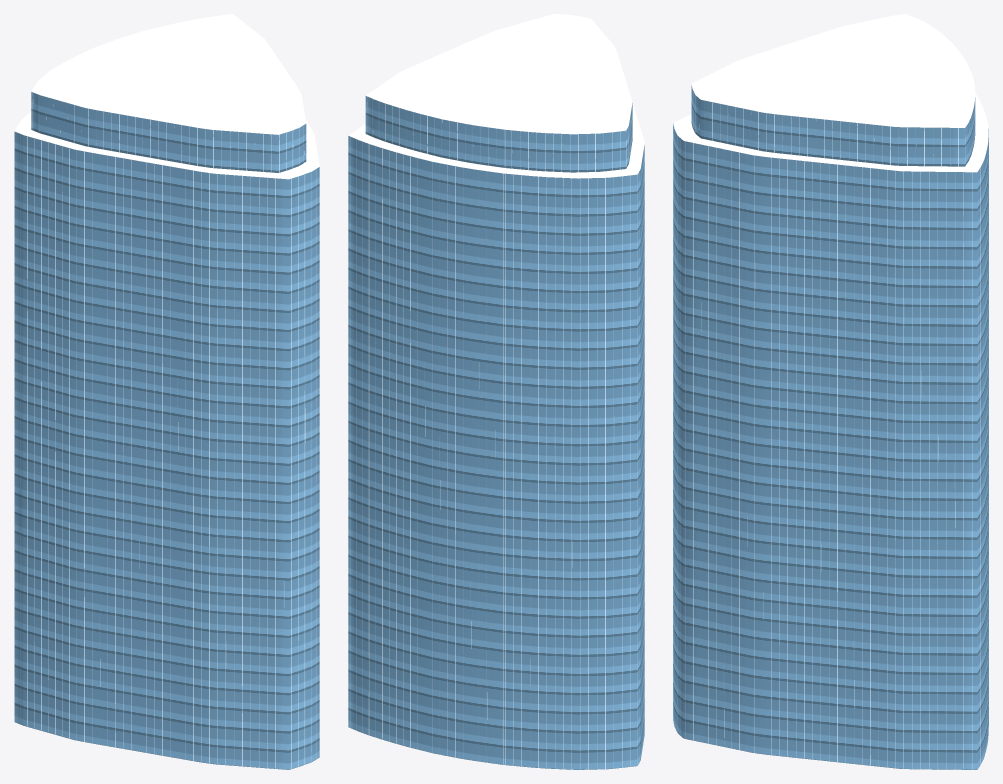
Rendered from landmark-port-baku-south-tower.glb.
3 renders of one model, left to right at view 1: azimuth 30°, elevation 25°; view 2: azimuth 150°, elevation 25°; view 3: azimuth 270°, elevation 25°, orthographic.
Parts seen in each view (by area): view 1: port-baku-south-tower; view 2: port-baku-south-tower; view 3: port-baku-south-tower.
Boxes of the visible parts, <box> form: port-baku-south-tower: <box>14,14,319,769</box>; port-baku-south-tower: <box>348,14,644,769</box>; port-baku-south-tower: <box>673,14,988,769</box>.
Size of the model in its own units: 52.65 by 123 by 55.46.
2 materials, 1 textured.
